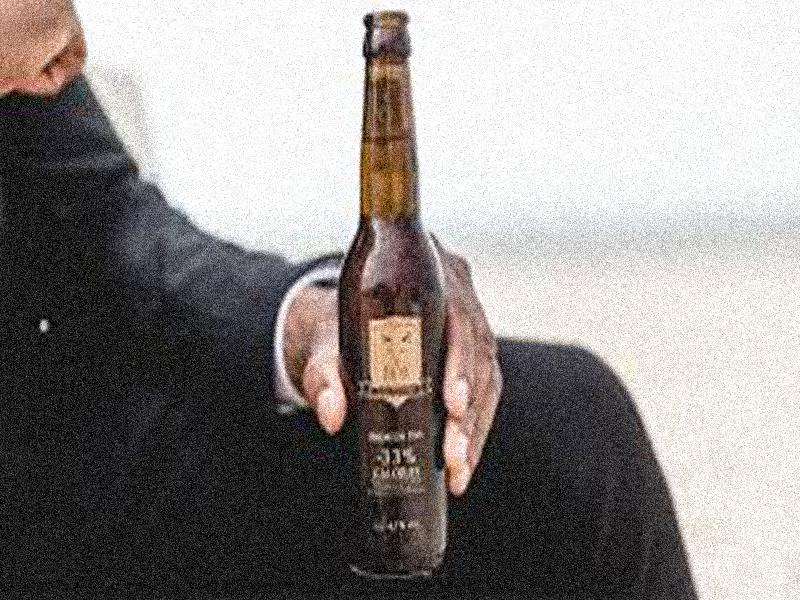Beer: (342, 11, 448, 578)
